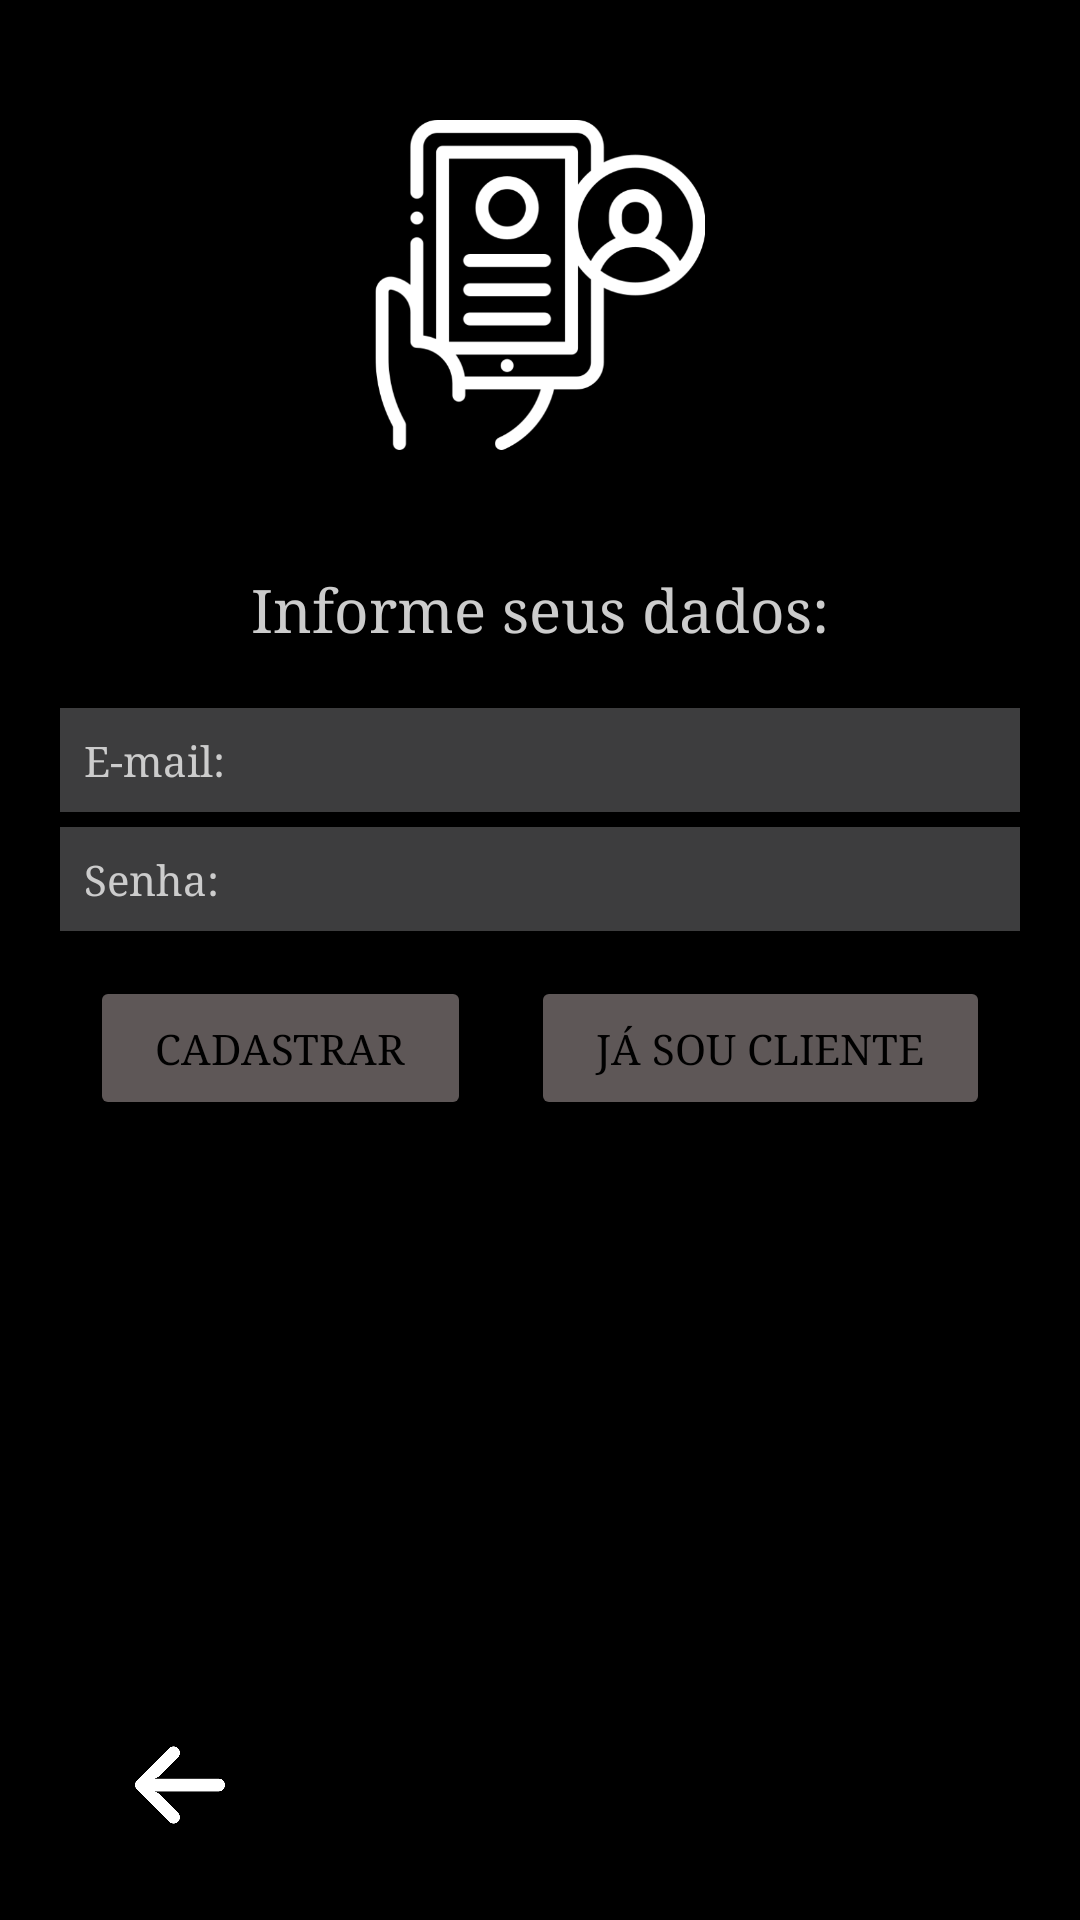

Icons on this 1080*1920 Android screen, each with the point to tap as [x,y]:
cadastro: [540,285]
voltar: [180,1785]
